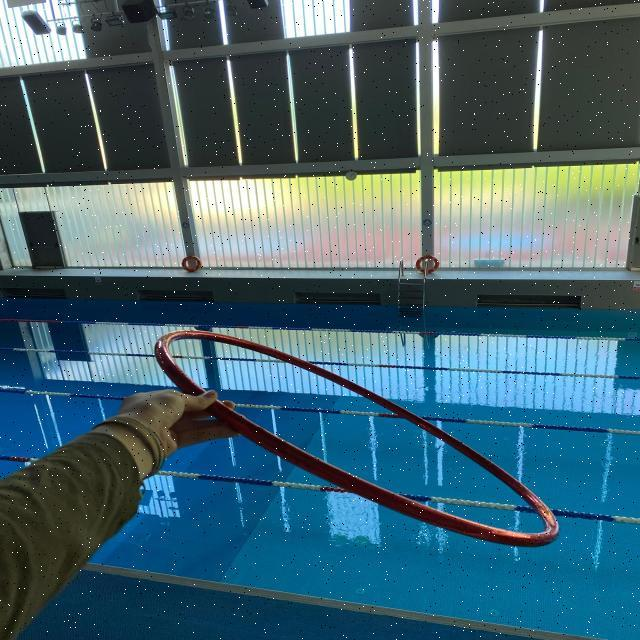Circle: (118, 307, 594, 556)
